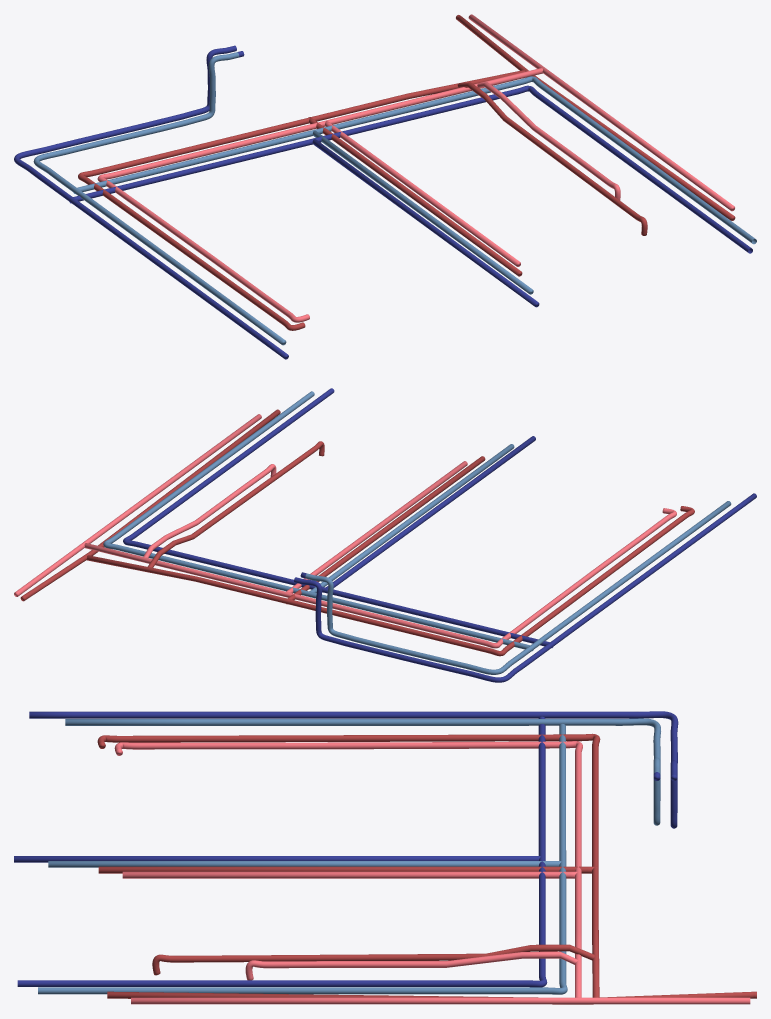
Rendered from RooftopPipeing.obj.
The picture shows the model from 3 angles, top to bottom: view 1: azimuth 30°, elevation 25°; view 2: azimuth 150°, elevation 25°; view 3: azimuth 270°, elevation 25°; orthographic projection. The views are drawn at different scales.
Visible parts, largest first — view 1: group_blue, group_lightblue, group_red, group_lightred; view 2: group_blue, group_lightblue, group_red, group_lightred; view 3: group_lightred, group_blue, group_red, group_lightblue.
Boxes of the visible parts, box(x1,y1,x2,y2) form: group_blue: box(14, 45, 752, 359); group_lightblue: box(33, 52, 756, 345); group_red: box(78, 15, 735, 330); group_lightred: box(97, 14, 734, 322); group_blue: box(123, 388, 756, 682); group_lightblue: box(103, 391, 731, 674); group_red: box(20, 409, 694, 656); group_lightred: box(14, 414, 676, 648); group_lightred: box(114, 741, 750, 1004); group_blue: box(14, 711, 678, 987); group_red: box(97, 733, 756, 1004); group_lightblue: box(38, 718, 660, 994).
Size of what is drawn, in the model's own units: 10.05 by 1.49 by 11.03.
